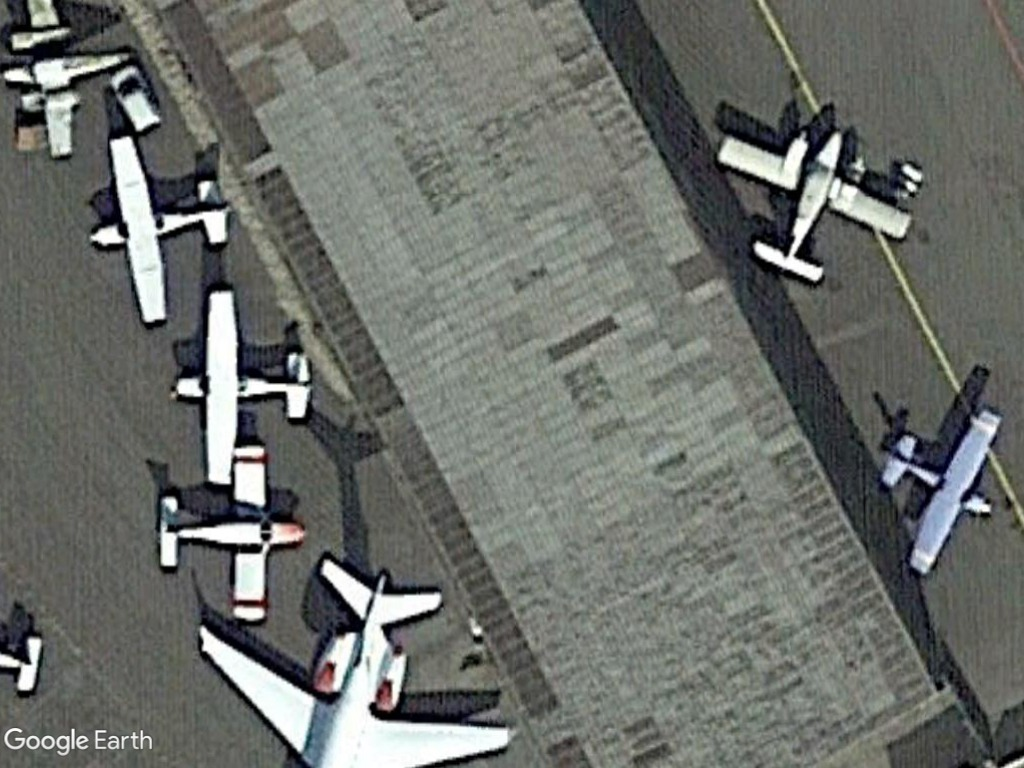propeller: (710, 113, 918, 294)
trainer: (163, 279, 311, 490), (86, 130, 237, 336), (149, 440, 308, 629), (877, 400, 1007, 582)
